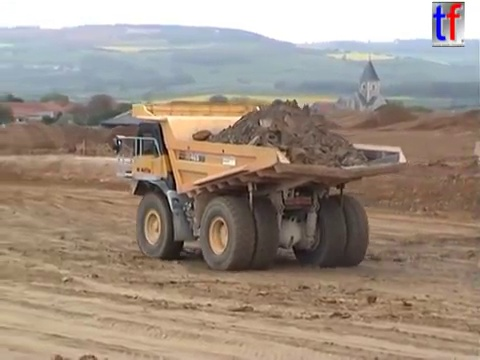truck: (110, 100, 408, 272), (472, 139, 480, 159)
